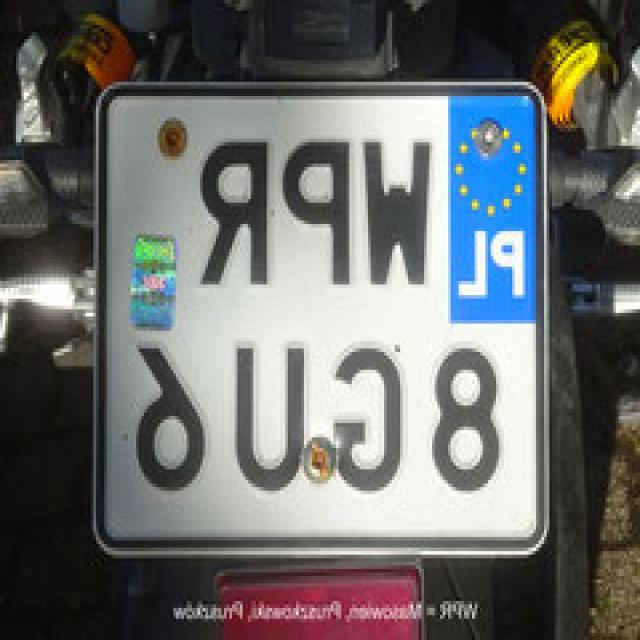pl_license_plate: (109, 92, 539, 537)
